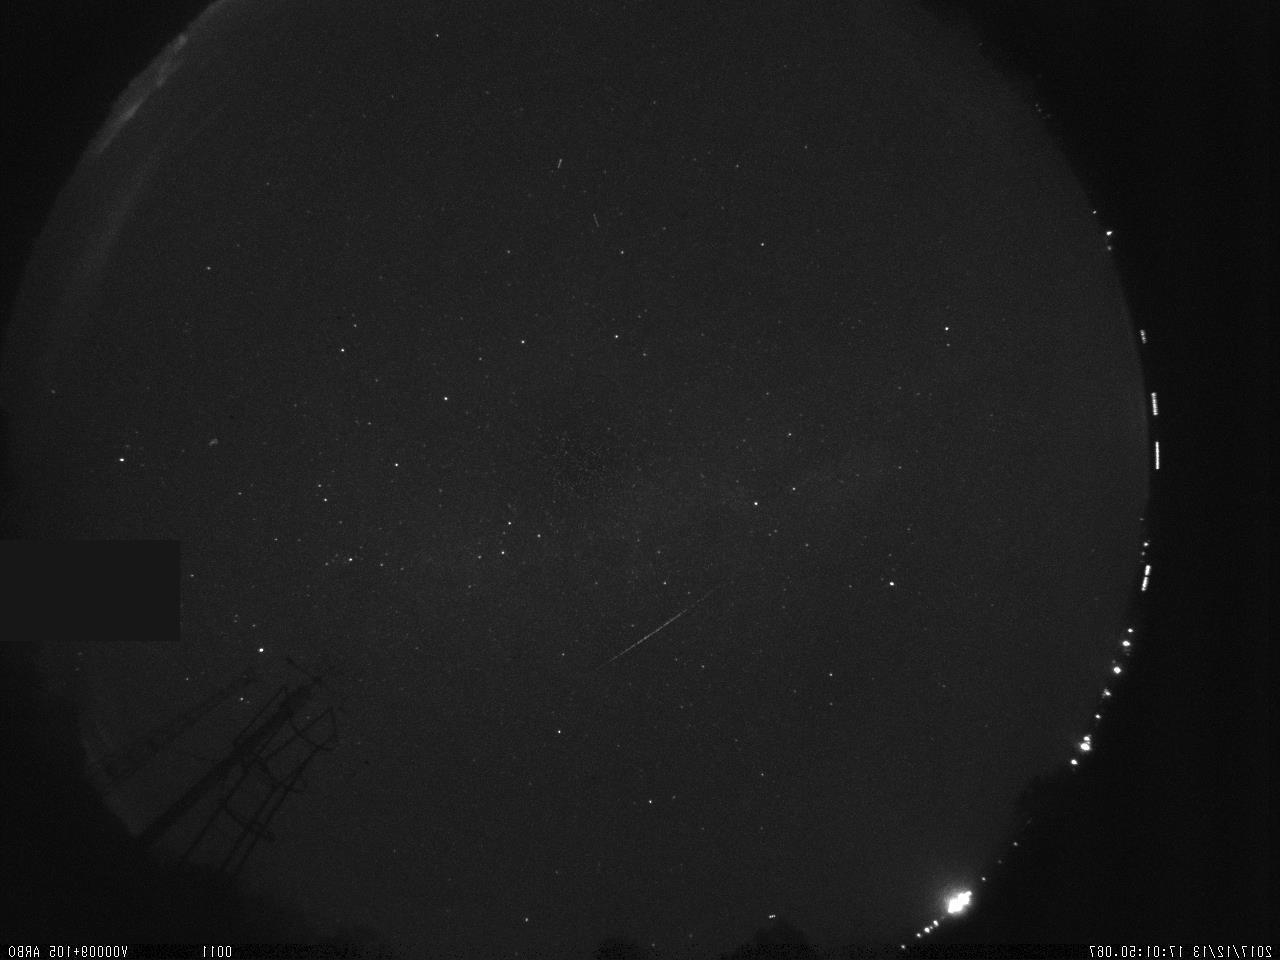meteor: (576, 574, 730, 690)
